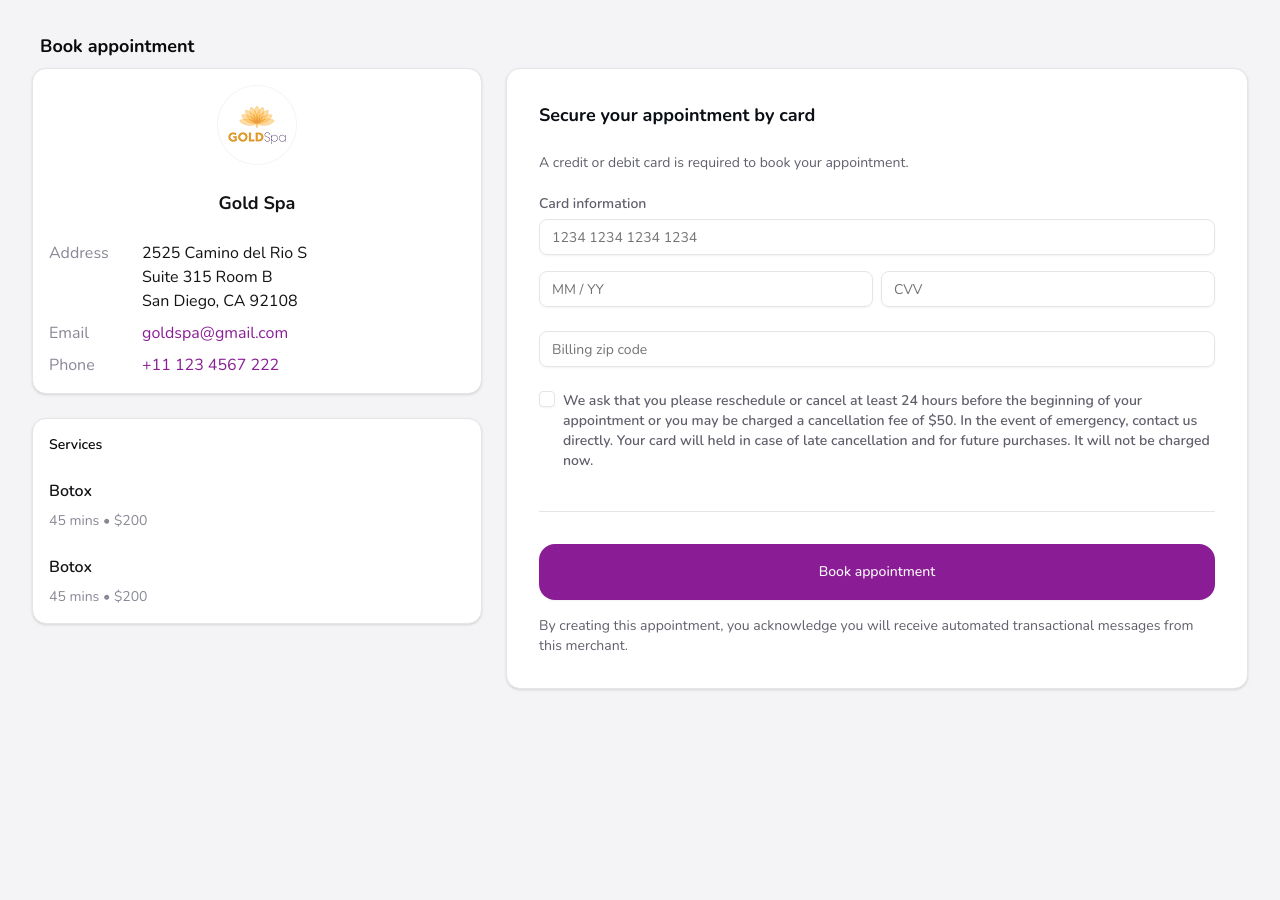
Test: PaymentInformation › clears validation errors when valid data is entered
This screenshot has width=1280, height=900.
Click the button "Book appointment": (877, 572) [539,544,1215,600]
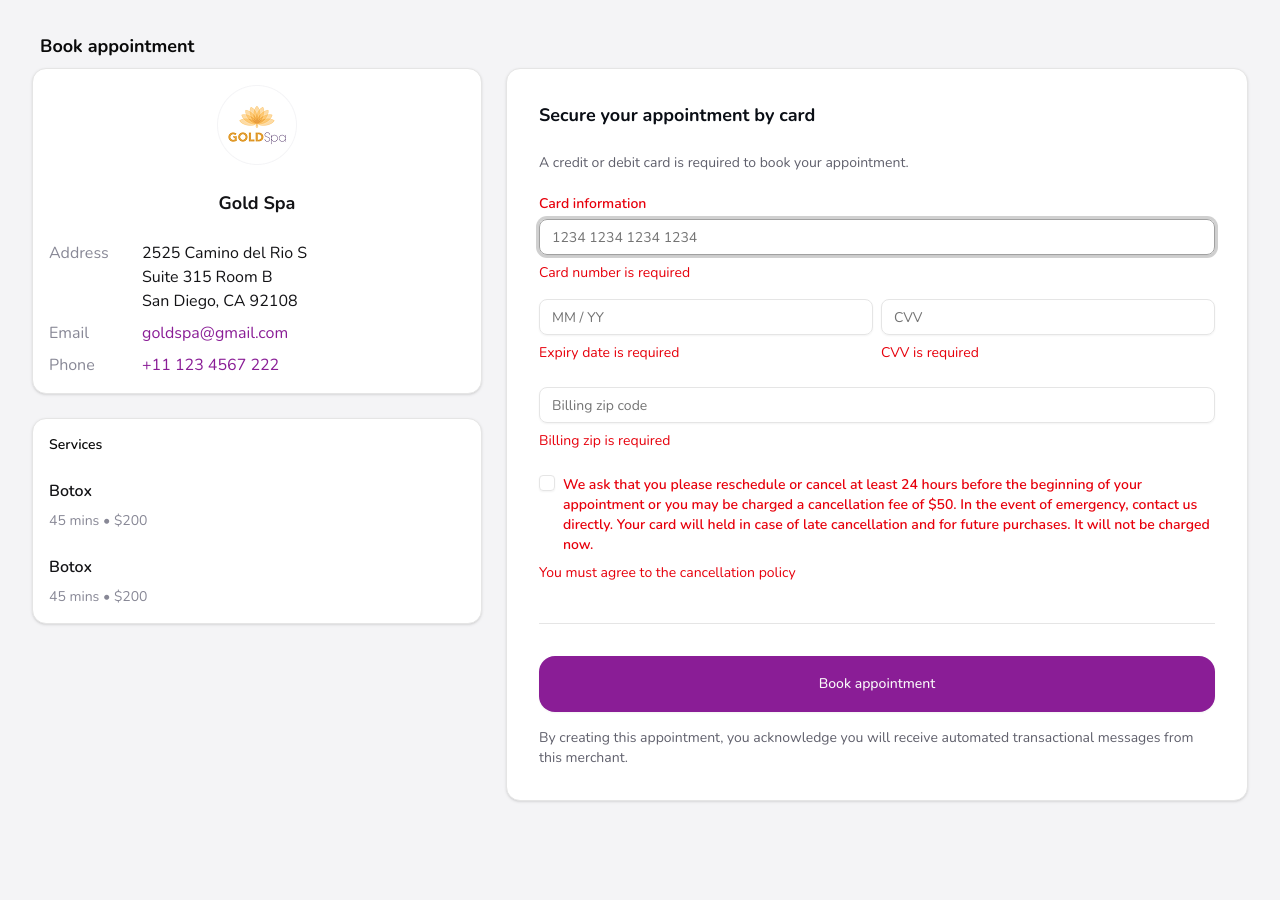
Now the text "Card number is required" is shown, box [539,263,690,282]
Note: Then fill in the field
In the field labelled "Card information": (877, 237) [539,219,1215,255], type "1234 5678 9012 3456"
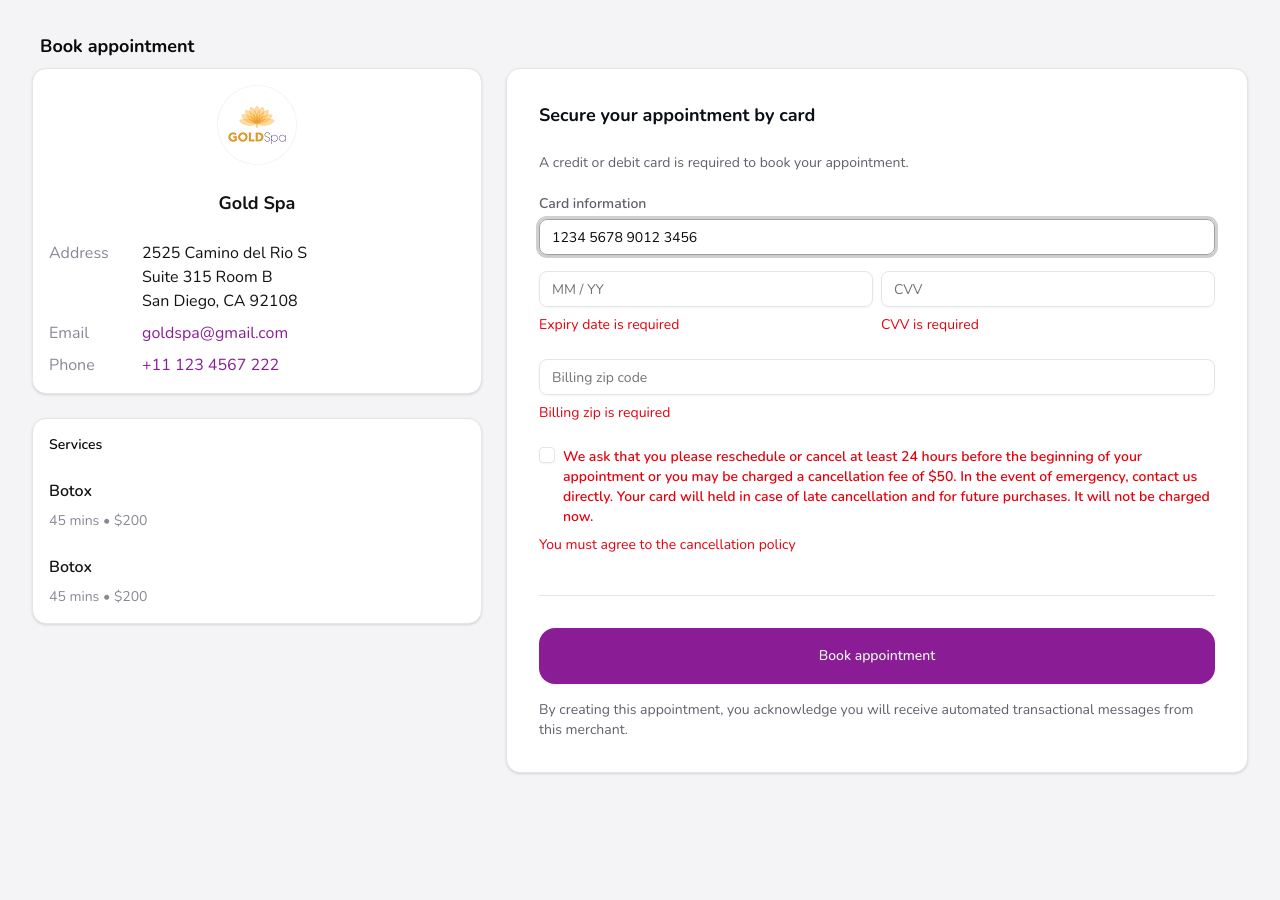
Now the text "Card number is required" is gone
